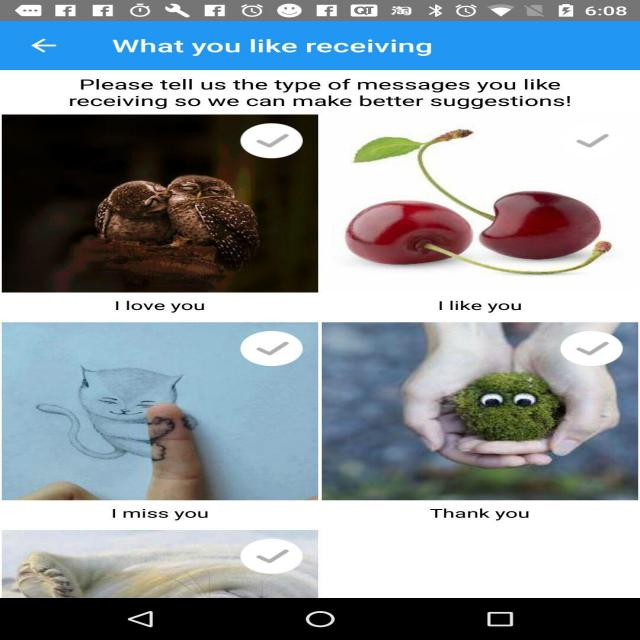button: (164, 332, 307, 361), (194, 113, 293, 151), (554, 329, 638, 372), (477, 132, 629, 152), (235, 539, 321, 574), (23, 23, 81, 52)
icon: (192, 331, 326, 370), (220, 124, 312, 157), (4, 25, 71, 68), (566, 321, 640, 359), (250, 538, 334, 569), (540, 126, 640, 152)
image: (350, 146, 535, 254), (60, 142, 221, 246), (64, 362, 210, 455), (410, 377, 610, 435), (46, 562, 228, 596)
text: (76, 78, 561, 101), (119, 34, 488, 59), (398, 495, 565, 524), (95, 507, 288, 529), (409, 286, 543, 313), (90, 298, 271, 315)
